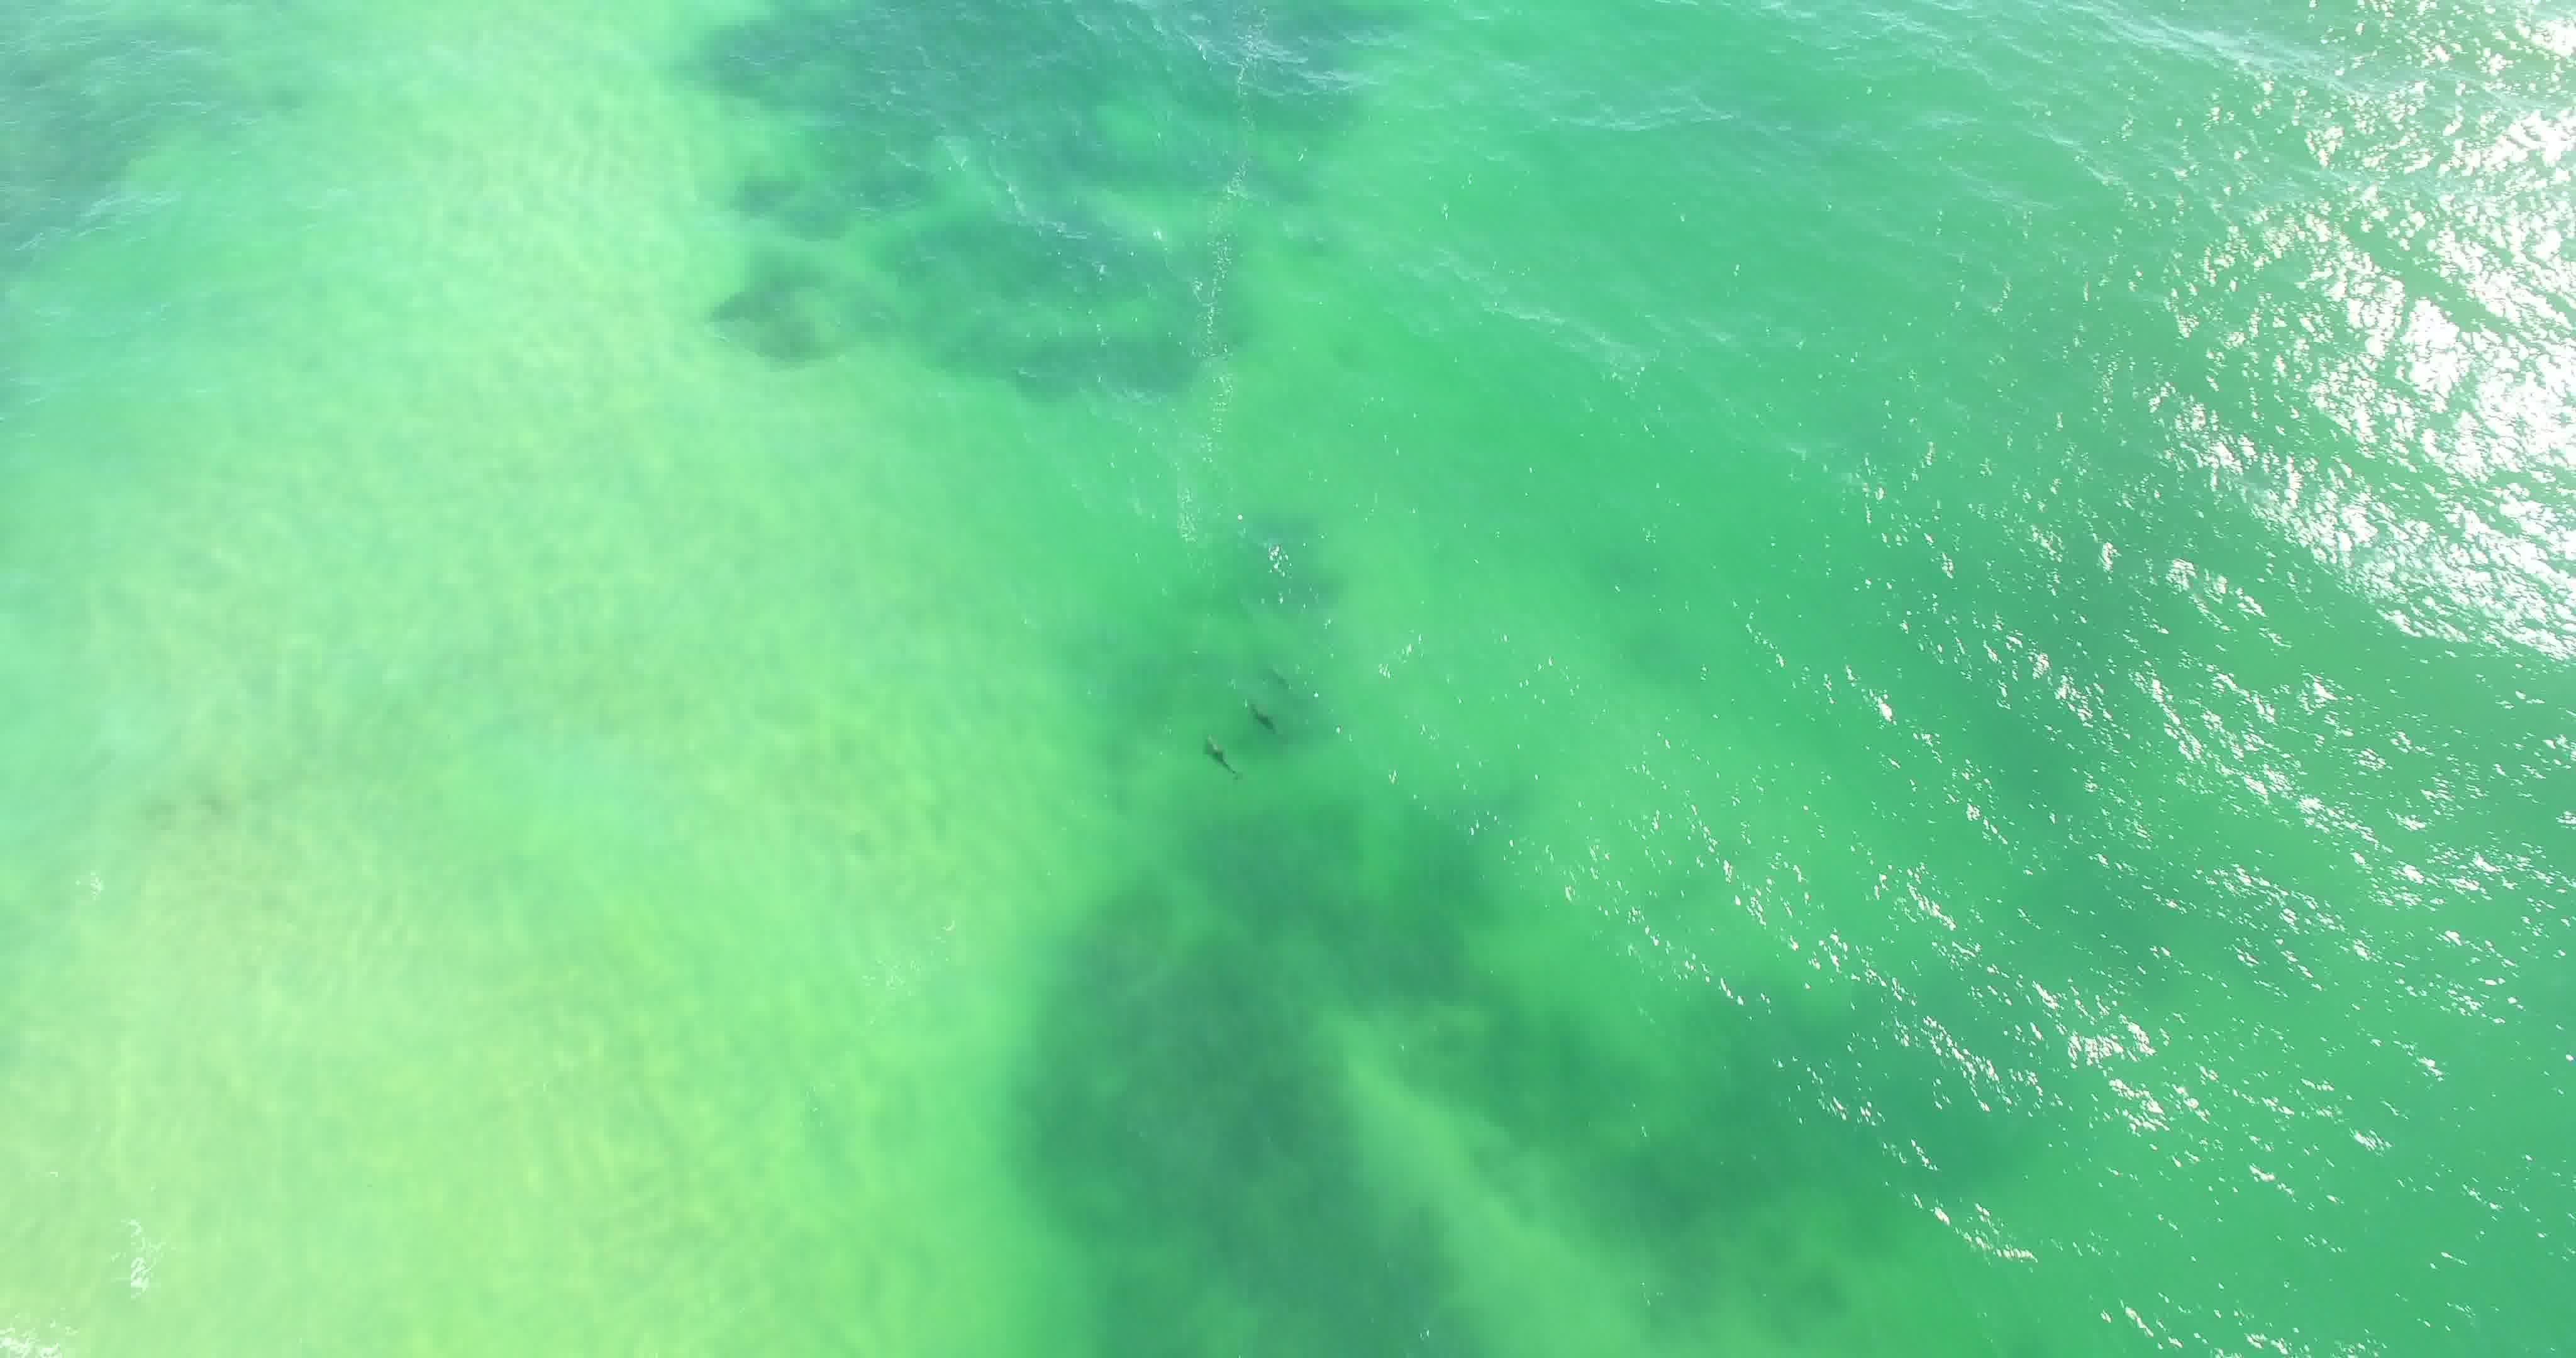dolphin: (1230, 693, 1303, 751), (1187, 728, 1251, 791)
